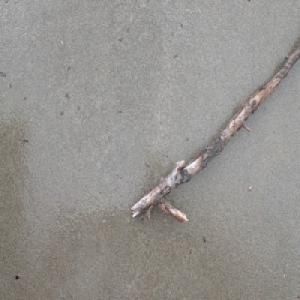Wood: (129, 44, 300, 223)
